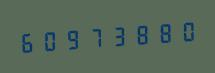eight: (127, 18, 148, 50), (149, 17, 170, 48)
nine: (61, 23, 82, 54)
seven: (83, 21, 104, 53)
six: (17, 26, 38, 57)
three: (105, 20, 126, 51)
zero: (39, 24, 60, 56), (171, 15, 192, 47)
